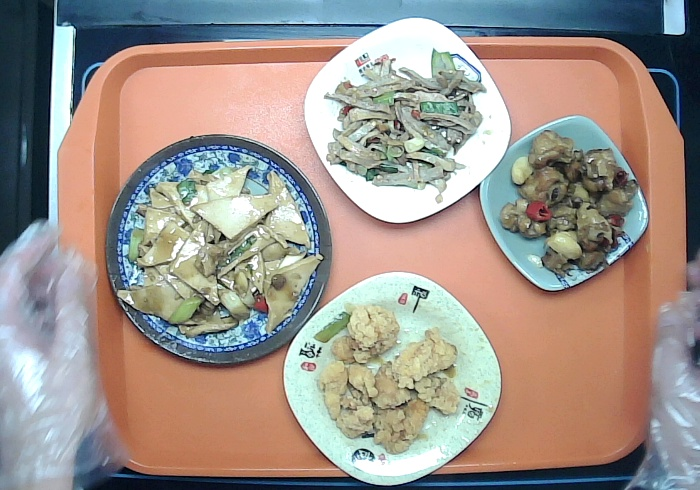NLDX-Bai_Se_Xiao_Fang_Die: (302, 15, 511, 225)
NLDX-Fu_Zi_Fang_Die: (282, 269, 503, 486)
NLDX-Qing_Hua_Xiao_Fang_Die: (478, 112, 651, 292)
NLDX-Qing_Hua_Yuan_Die: (103, 130, 335, 366)
